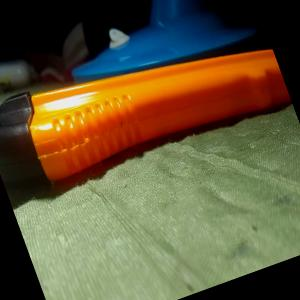estilete: (0, 4, 295, 211)
